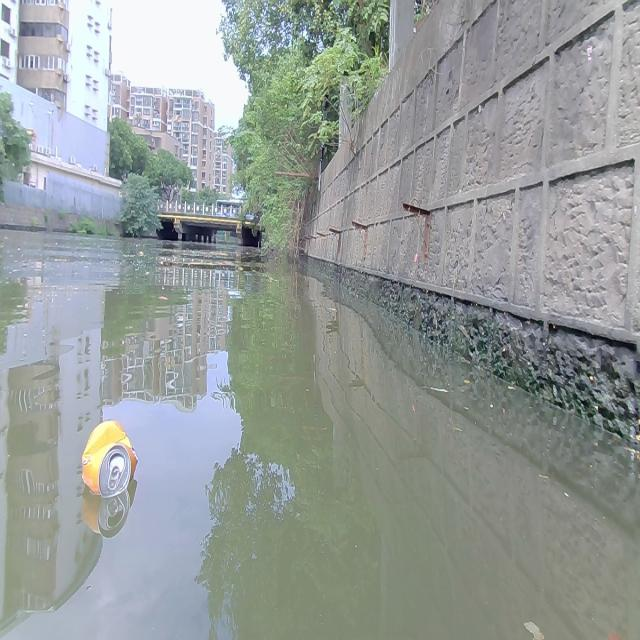bottle: (82, 418, 138, 498)
